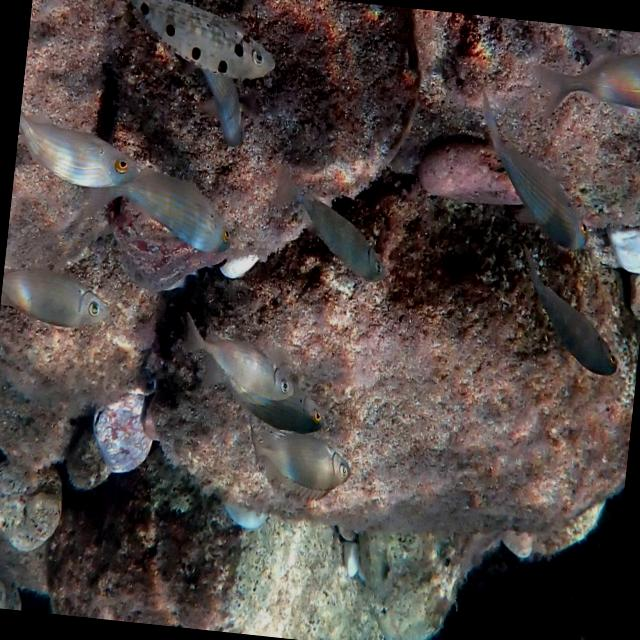Sokar Baligi: (256, 158, 404, 298), (504, 238, 636, 389)
